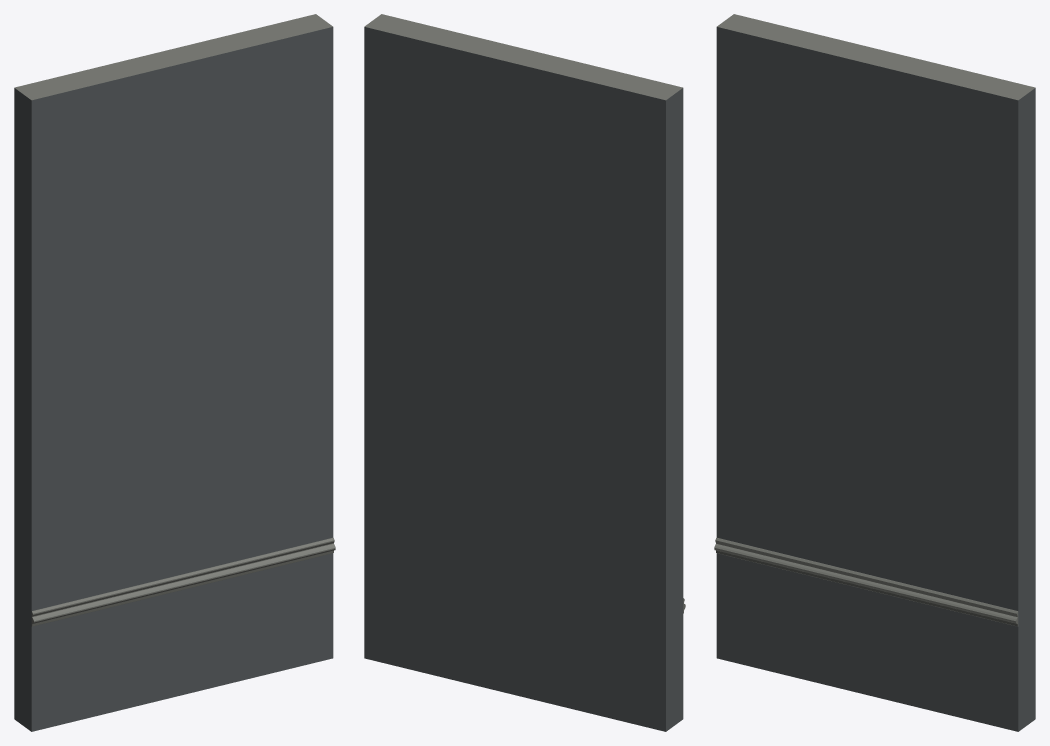
The model's file is wall4.glb.
3 renders of one model, left to right at view 1: azimuth 30°, elevation 25°; view 2: azimuth 150°, elevation 25°; view 3: azimuth 330°, elevation 25°, orthographic.
Parts seen in each view (by area): view 1: WallBigOuter; view 2: WallBigOuter; view 3: WallBigOuter.
Part boxes in pixels (bbox=[...]): WallBigOuter: bbox=[14, 14, 335, 731]; WallBigOuter: bbox=[364, 14, 685, 731]; WallBigOuter: bbox=[714, 14, 1035, 731].
Size of the model in its own units: 2 by 4 by 0.2278.
1 material, 1 textured.
